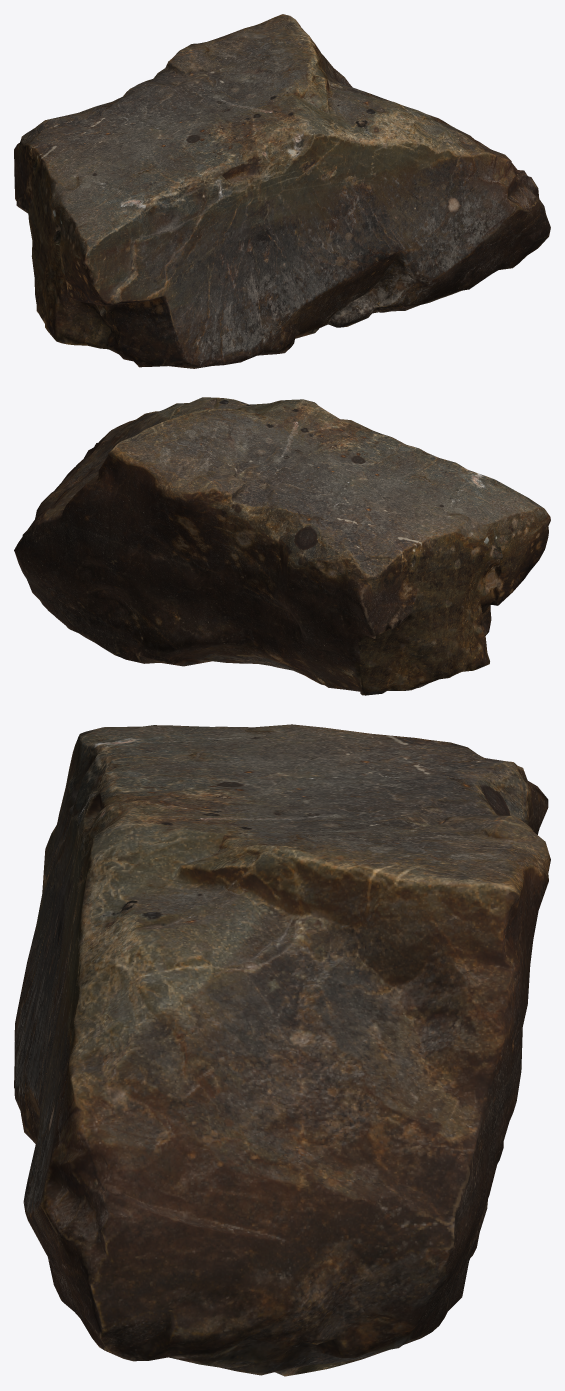
The model's file is vixtai3dw_tier_2.gltf.
3 views of the same model, one above another, from view 1: azimuth 30°, elevation 25°; view 2: azimuth 150°, elevation 25°; view 3: azimuth 270°, elevation 25° (orthographic). The views are drawn at different scales.
Parts seen in each view (by area): view 1: vixtai3dw_LOD0_TIER2_000; view 2: vixtai3dw_LOD0_TIER2_000; view 3: vixtai3dw_LOD0_TIER2_000.
Boxes of the visible parts, x1,y1,x2,y2 form: vixtai3dw_LOD0_TIER2_000: (14, 14, 550, 368); vixtai3dw_LOD0_TIER2_000: (14, 397, 550, 695); vixtai3dw_LOD0_TIER2_000: (14, 724, 550, 1376).
Size of the model in its own units: 0.9493 by 0.4498 by 0.5143.
Materials: 1 (1 with a texture image).
